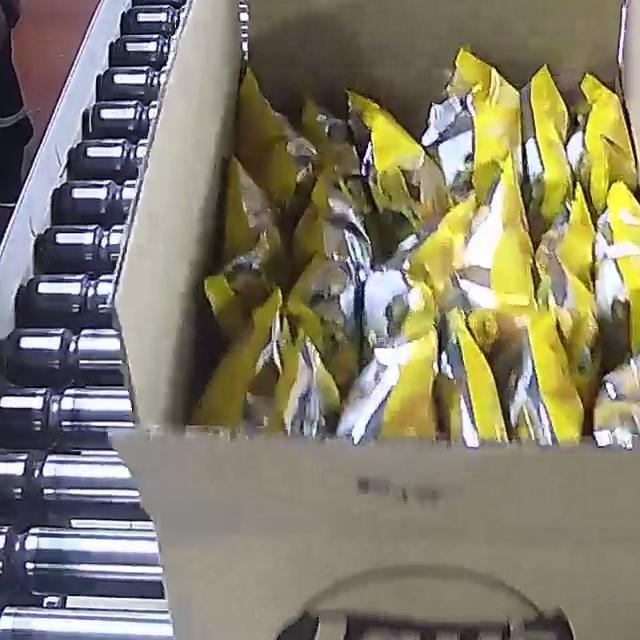salted: (192, 31, 640, 460)
